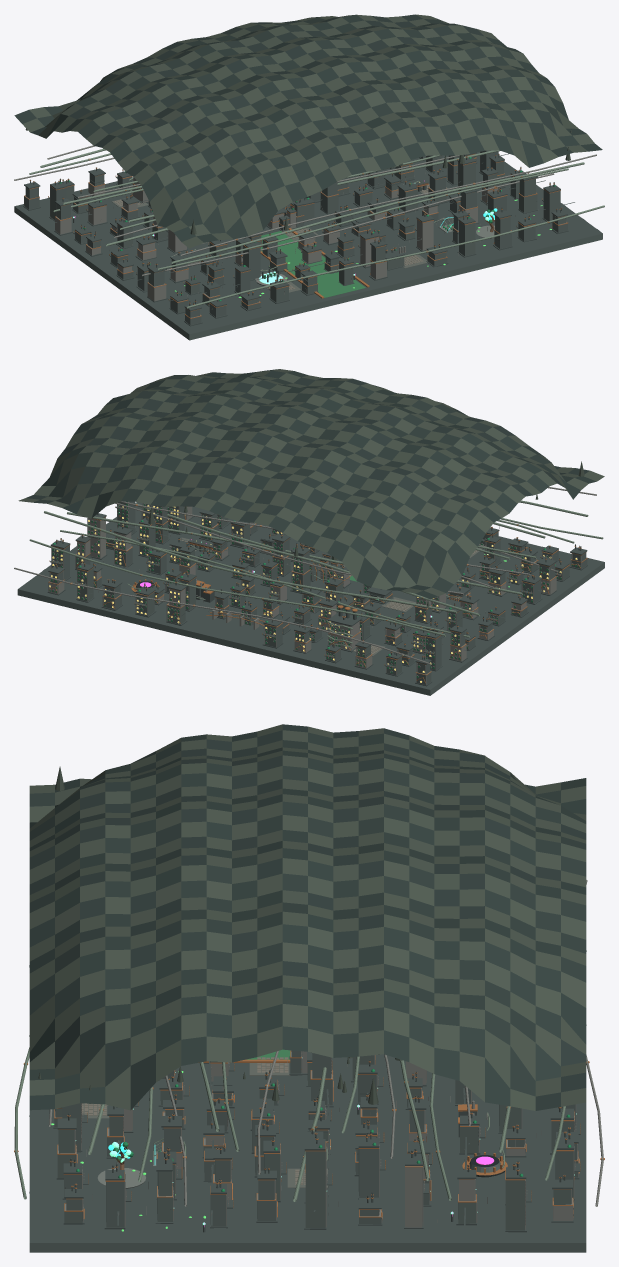
The model's file is zaun.glb.
3 renders of one model, top to bottom at view 1: azimuth 30°, elevation 25°; view 2: azimuth 150°, elevation 25°; view 3: azimuth 270°, elevation 25°, orthographic. The views are drawn at different scales.
Parts seen in each view (by area): view 1: ZAUN_cave_light, ZAUN_cave, ZAUN_stone, ZAUN_road, ZAUN_iron, ZAUN_iron_light, ZAUN_copper, ZAUN_rust, ZAUN_water, ZAUN_paver; view 2: ZAUN_cave_light, ZAUN_cave, ZAUN_road, ZAUN_stone, ZAUN_iron_light, ZAUN_iron, ZAUN_copper, ZAUN_rust, ZAUN_glass_green, ZAUN_window_glow; view 3: ZAUN_cave_light, ZAUN_cave, ZAUN_road, ZAUN_stone, ZAUN_iron, ZAUN_iron_light, ZAUN_copper, ZAUN_rust, ZAUN_paver, ZAUN_paver_light.
Boxes of the visible parts, x1,y1,x2,y2 form: ZAUN_cave_light: [22, 14, 594, 248]; ZAUN_cave: [14, 14, 602, 242]; ZAUN_stone: [14, 150, 602, 340]; ZAUN_road: [14, 152, 602, 334]; ZAUN_iron: [23, 152, 574, 326]; ZAUN_iron_light: [14, 145, 596, 317]; ZAUN_copper: [29, 148, 604, 308]; ZAUN_rust: [24, 153, 567, 318]; ZAUN_water: [260, 231, 365, 297]; ZAUN_paver: [111, 184, 449, 292]; ZAUN_cave_light: [18, 369, 604, 606]; ZAUN_cave: [26, 369, 596, 599]; ZAUN_road: [18, 502, 604, 689]; ZAUN_stone: [17, 501, 604, 695]; ZAUN_iron_light: [14, 487, 596, 684]; ZAUN_iron: [47, 506, 587, 686]; ZAUN_copper: [29, 500, 603, 647]; ZAUN_rust: [48, 504, 587, 683]; ZAUN_glass_green: [49, 501, 580, 677]; ZAUN_window_glow: [49, 505, 577, 682]; ZAUN_cave_light: [29, 724, 586, 1110]; ZAUN_cave: [29, 724, 586, 1110]; ZAUN_road: [29, 950, 586, 1242]; ZAUN_stone: [29, 1050, 586, 1252]; ZAUN_iron: [53, 1051, 580, 1232]; ZAUN_iron_light: [48, 880, 603, 1229]; ZAUN_copper: [14, 1047, 565, 1201]; ZAUN_rust: [14, 1050, 604, 1219]; ZAUN_paver: [82, 1063, 327, 1188]; ZAUN_paver_light: [82, 1057, 305, 1184].
Size of the model in its own units: 3004 by 1121 by 2335.
